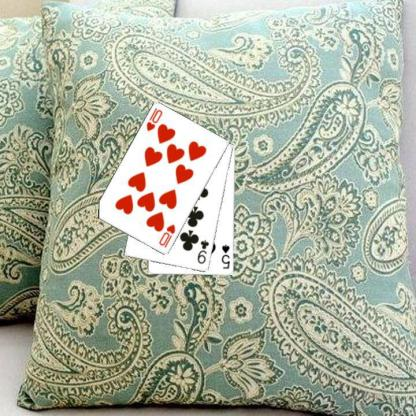10H: (156, 222, 177, 249), (144, 106, 164, 133)
5S: (219, 242, 231, 270)
9C: (195, 238, 210, 265)
